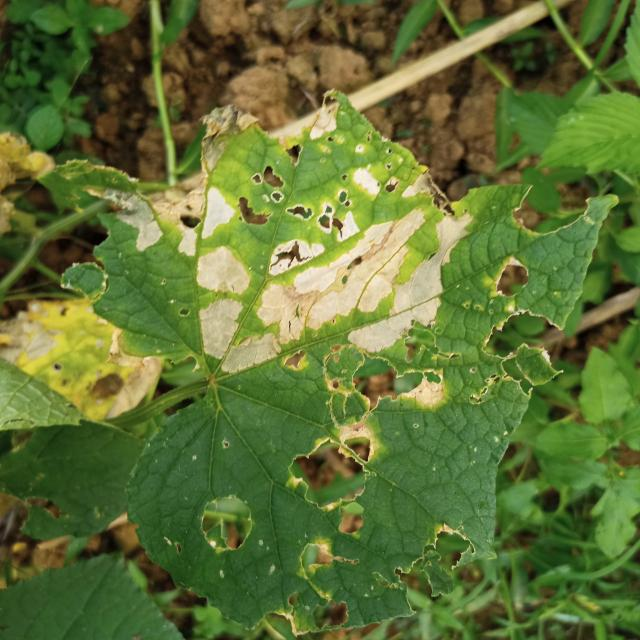disease_cucumber: (106, 118, 464, 372), (308, 351, 482, 601)
